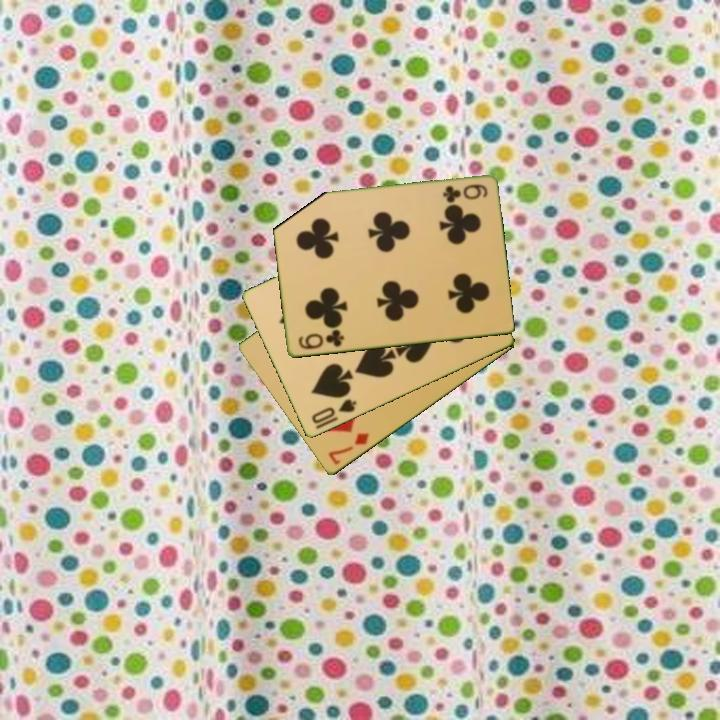10s: (308, 396, 360, 427)
6c: (295, 326, 346, 352), (439, 181, 490, 205)
7d: (325, 429, 372, 468)
